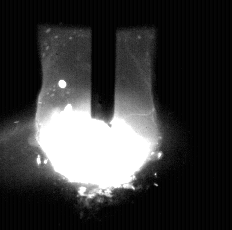arame: (91, 0, 116, 128)
poca: (36, 0, 151, 230)
